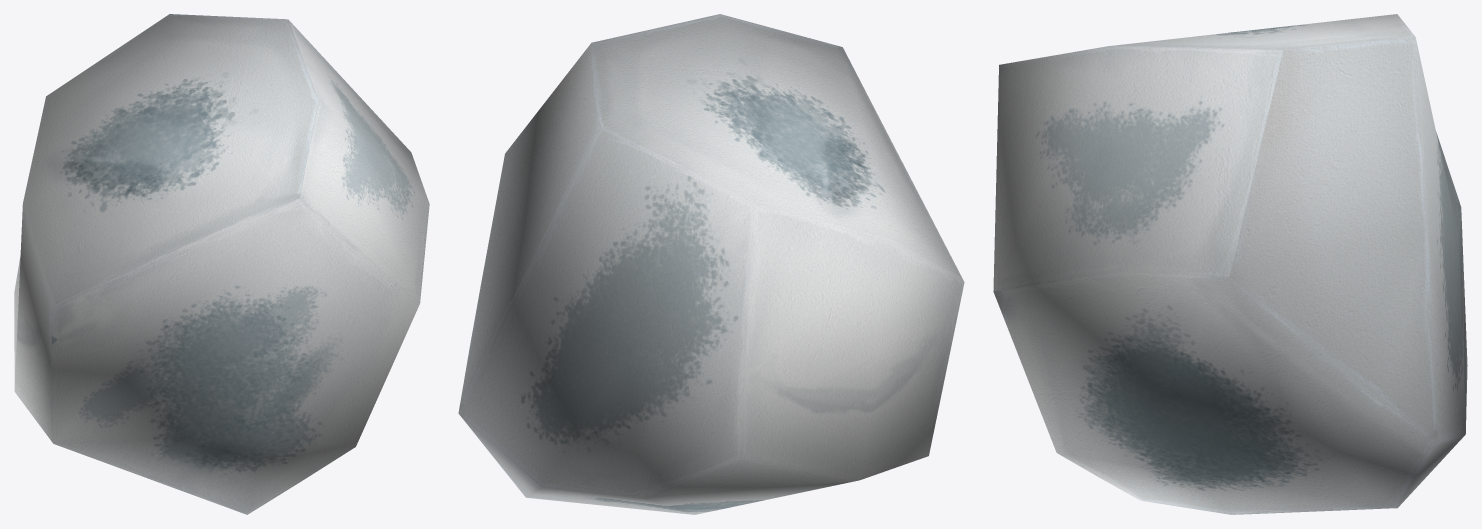
Rendered from rock_7.fbx.
The picture shows the model from 3 angles, left to right: view 1: azimuth 30°, elevation 25°; view 2: azimuth 150°, elevation 25°; view 3: azimuth 270°, elevation 25°; orthographic projection. The views are drawn at different scales.
Parts seen in each view (by area): view 1: rock_7; view 2: rock_7; view 3: rock_7.
Boxes of the visible parts, x1,y1,x2,y2 form: rock_7: (14,14,429,514); rock_7: (458,14,964,514); rock_7: (993,14,1467,514).
Size of the model in its own units: 1.9 by 2 by 1.69.
